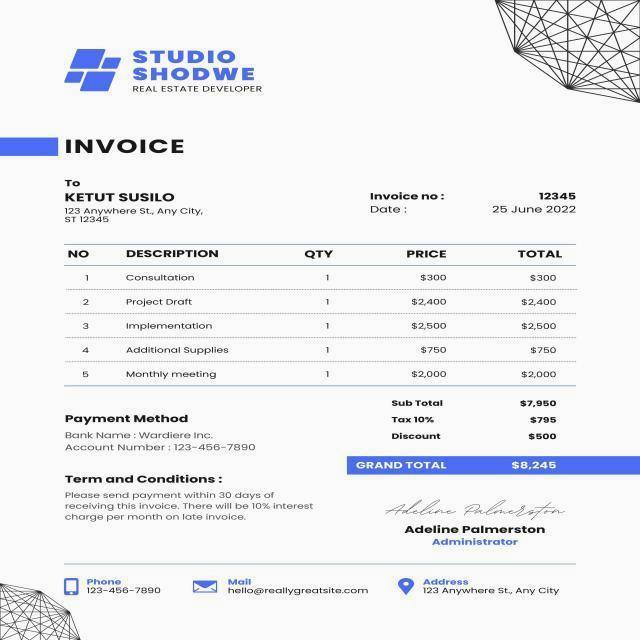paragraph: (338, 394, 585, 484), (56, 469, 331, 531), (377, 492, 576, 549), (57, 407, 270, 460), (363, 180, 613, 223), (58, 171, 216, 229), (129, 38, 272, 101), (394, 567, 570, 608), (190, 570, 371, 605), (51, 24, 124, 100), (58, 576, 172, 608), (64, 134, 190, 160)
table: (55, 241, 579, 387)
